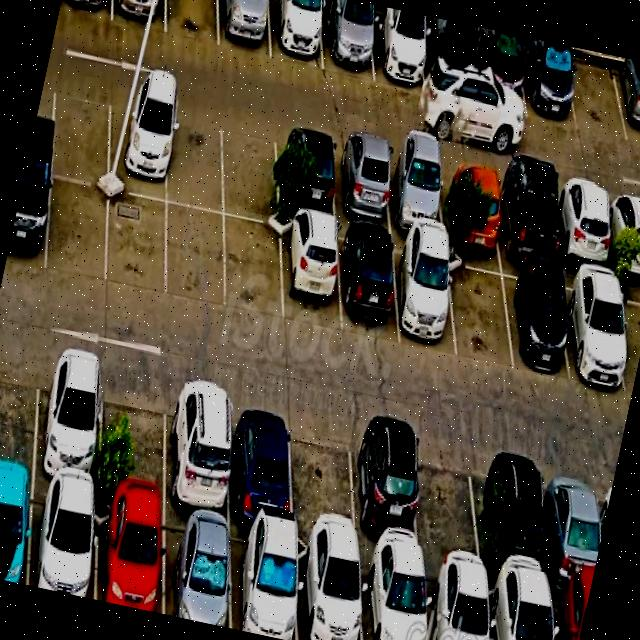empty: (276, 436, 366, 552), (89, 393, 174, 515), (404, 449, 486, 568), (439, 263, 522, 367), (161, 104, 234, 212), (98, 187, 174, 290), (38, 182, 116, 282), (218, 114, 292, 218), (40, 88, 117, 185), (212, 214, 286, 312), (158, 202, 230, 295), (0, 358, 47, 489), (562, 48, 629, 132), (157, 0, 226, 47)
occupied: (146, 408, 239, 534), (22, 383, 112, 504), (338, 437, 426, 560), (218, 426, 300, 552), (472, 455, 552, 579), (560, 278, 640, 398), (531, 474, 611, 592), (388, 242, 467, 356), (86, 510, 172, 612), (502, 267, 579, 380), (158, 526, 244, 627), (99, 87, 180, 193), (492, 168, 567, 280), (226, 538, 308, 640), (436, 149, 510, 261), (334, 227, 408, 339), (270, 220, 347, 323), (264, 124, 343, 224), (546, 182, 618, 291), (22, 500, 102, 597), (292, 555, 377, 640), (378, 146, 448, 244), (330, 137, 396, 230), (358, 566, 440, 640), (415, 17, 482, 102), (468, 28, 532, 112), (368, 6, 430, 90), (520, 39, 580, 122), (425, 578, 503, 640), (317, 0, 380, 76), (6, 174, 56, 268), (599, 190, 640, 300), (484, 591, 570, 640), (264, 0, 328, 65), (210, 0, 277, 60), (0, 484, 37, 583), (610, 57, 640, 134), (107, 0, 169, 25), (59, 0, 114, 15)
